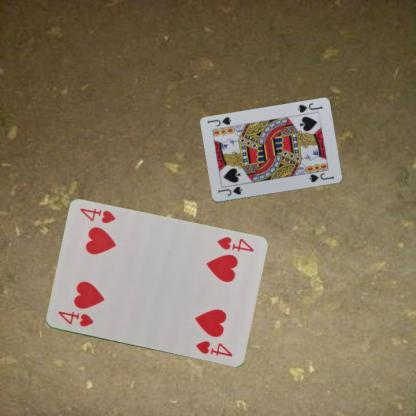4h: (214, 234, 255, 254), (55, 309, 95, 328)
Js: (294, 100, 324, 114), (216, 184, 243, 197)
